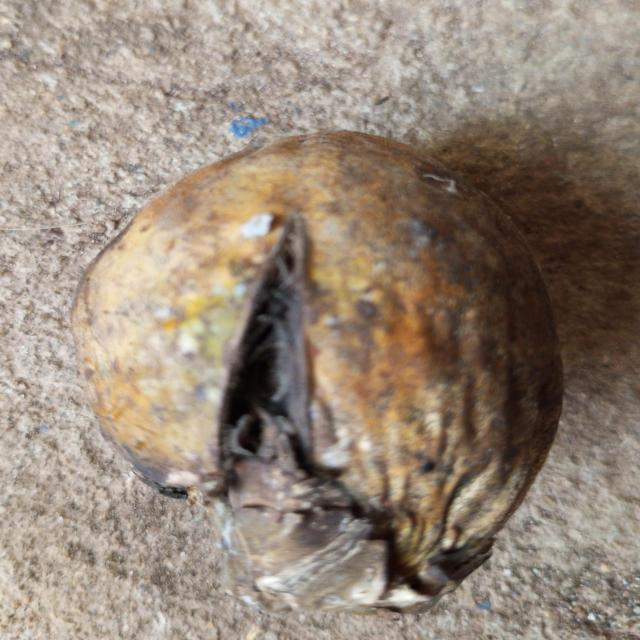damaged: (72, 132, 563, 613)
